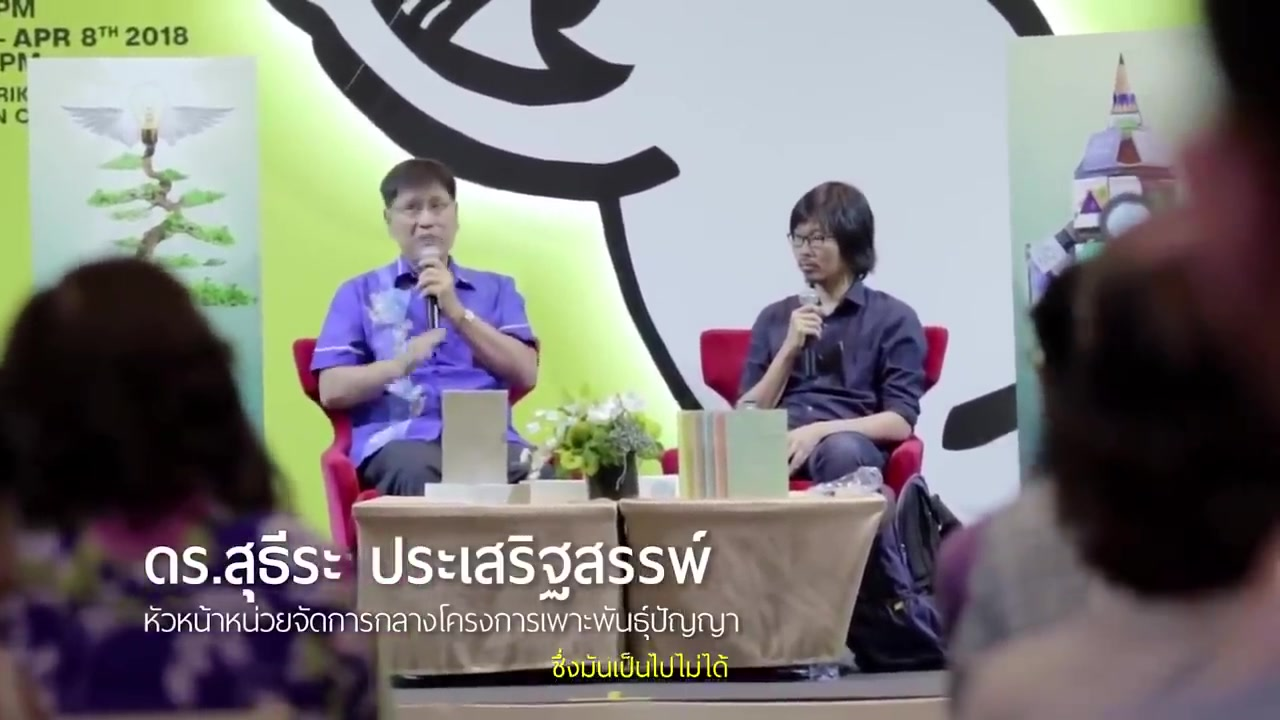text-label: (548, 641, 733, 684)
